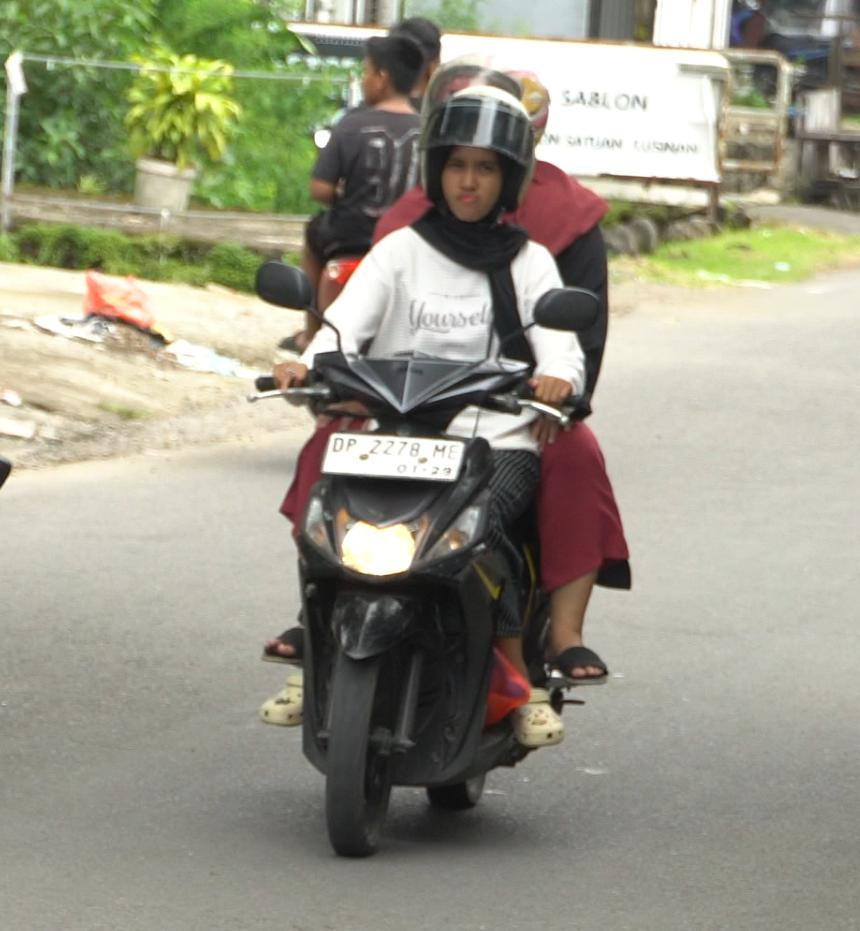number-plate: (319, 424, 468, 484)
